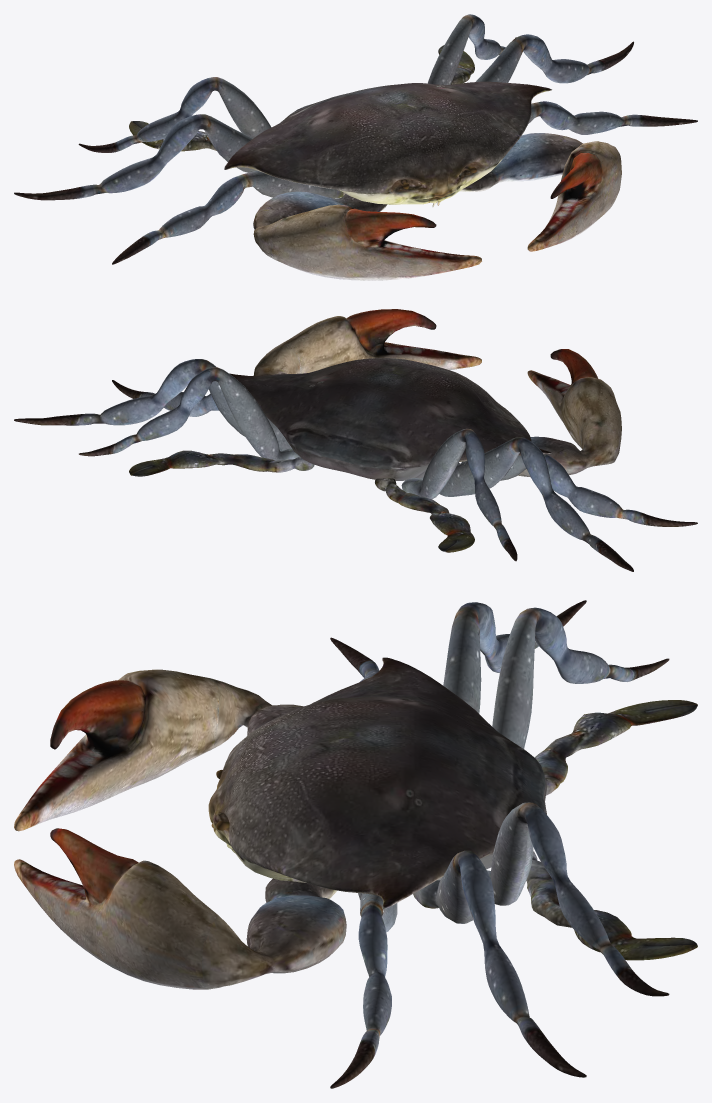
Rendered from 10012_crab_v2_iterations-1.obj.
3 views of the same model, one above another, from view 1: azimuth 30°, elevation 25°; view 2: azimuth 150°, elevation 25°; view 3: azimuth 270°, elevation 25° (orthographic). The views are drawn at different scales.
Parts seen in each view (by area): view 1: 10012_crab; view 2: 10012_crab; view 3: 10012_crab.
Part boxes in pixels (box(x1,y1,x2,y2)): 10012_crab: box(14, 14, 697, 280); 10012_crab: box(14, 309, 697, 571); 10012_crab: box(14, 600, 697, 1088).
Size of the model in its own units: 36.5 by 6.09 by 22.19.
Materials: 1 (1 with a texture image).
